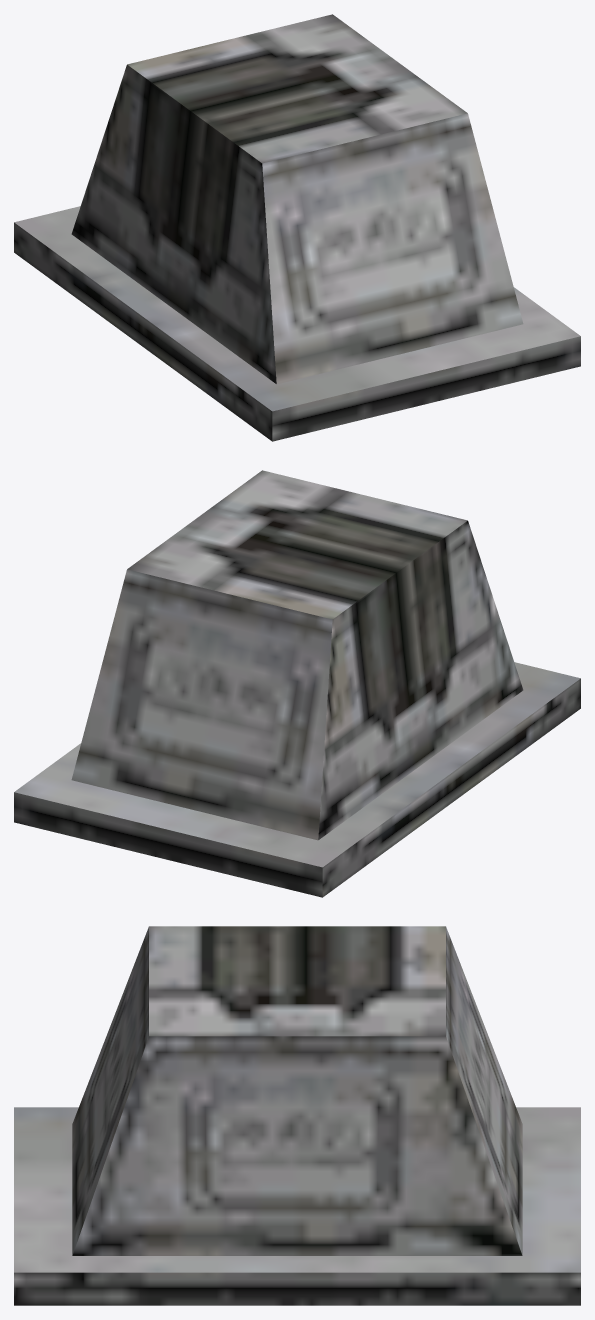
File: lambda_pad2.fbx
The picture shows the model from 3 angles, top to bottom: view 1: azimuth 30°, elevation 25°; view 2: azimuth 150°, elevation 25°; view 3: azimuth 270°, elevation 25°; orthographic projection. The views are drawn at different scales.
Visible parts, largest first — view 1: mesh_node; view 2: mesh_node; view 3: mesh_node.
Boxes of the visible parts, x1=… form: mesh_node: x1=14, y1=14, x2=580, y2=441; mesh_node: x1=14, y1=470, x2=580, y2=897; mesh_node: x1=14, y1=926, x2=580, y2=1305.
Bounding box in the file's own units: 1.75 × 1.19 × 2.53.
